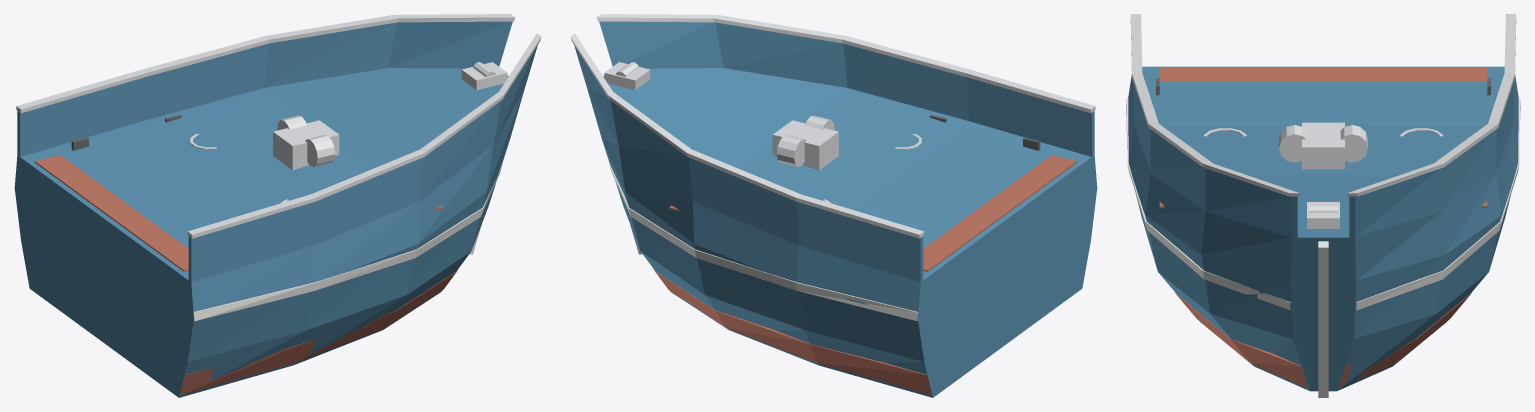
The model's file is fish-market-and-trawler-quay-fish-market-and-trawler-q-70731fa7__37254.glb.
3 renders of one model, left to right at view 1: azimuth 30°, elevation 25°; view 2: azimuth 150°, elevation 25°; view 3: azimuth 270°, elevation 25°, orthographic. The views are drawn at different scales.
Parts seen in each view (by area): view 1: fish-market-and-trawler-quay-trawler-bow-section; view 2: fish-market-and-trawler-quay-trawler-bow-section; view 3: fish-market-and-trawler-quay-trawler-bow-section.
Boxes of the visible parts, <box> form: fish-market-and-trawler-quay-trawler-bow-section: <box>14,14,541,397</box>; fish-market-and-trawler-quay-trawler-bow-section: <box>570,14,1097,397</box>; fish-market-and-trawler-quay-trawler-bow-section: <box>1126,14,1520,397</box>.
Bounding box in the file's own units: 8.15 × 3.97 × 6.02.
